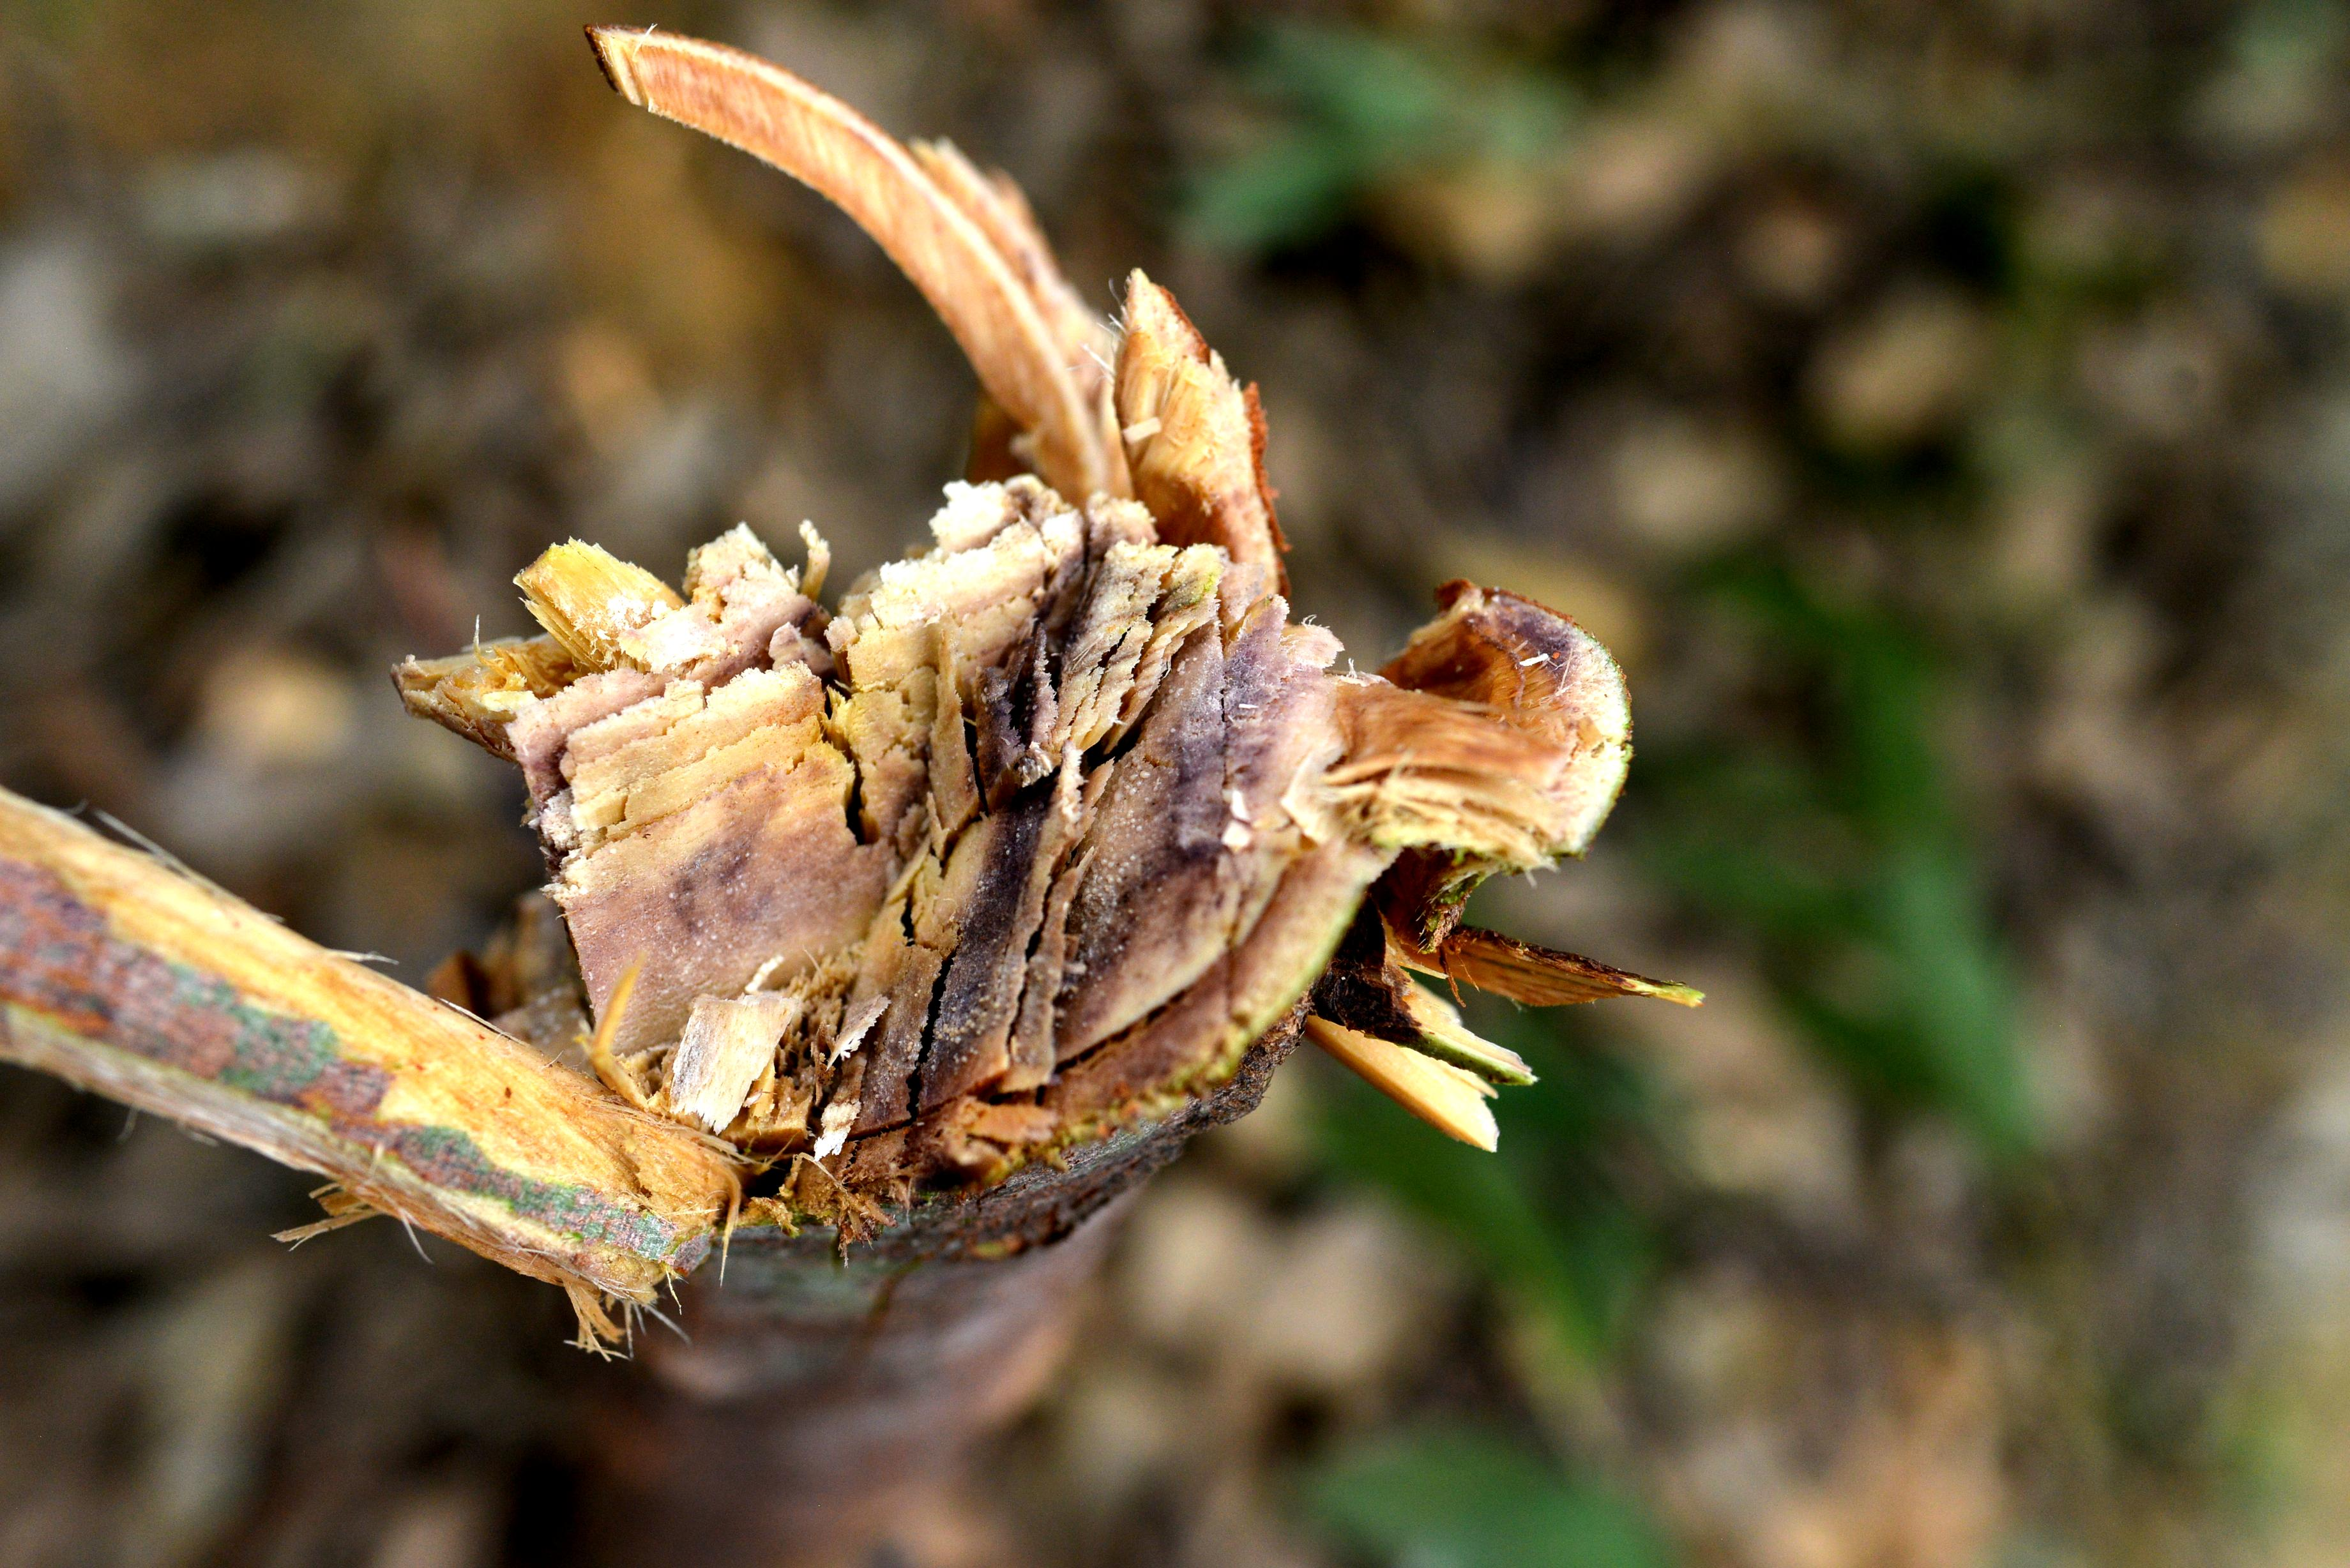Ralstonia: (859, 546, 1130, 1125), (602, 842, 791, 961), (570, 572, 679, 646)
